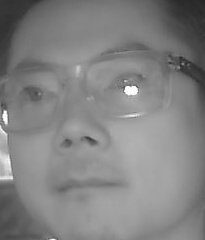eye: (16, 82, 55, 105), (107, 69, 147, 90)
glass: (81, 51, 174, 117), (2, 59, 67, 133)
mouth: (54, 168, 122, 207)
